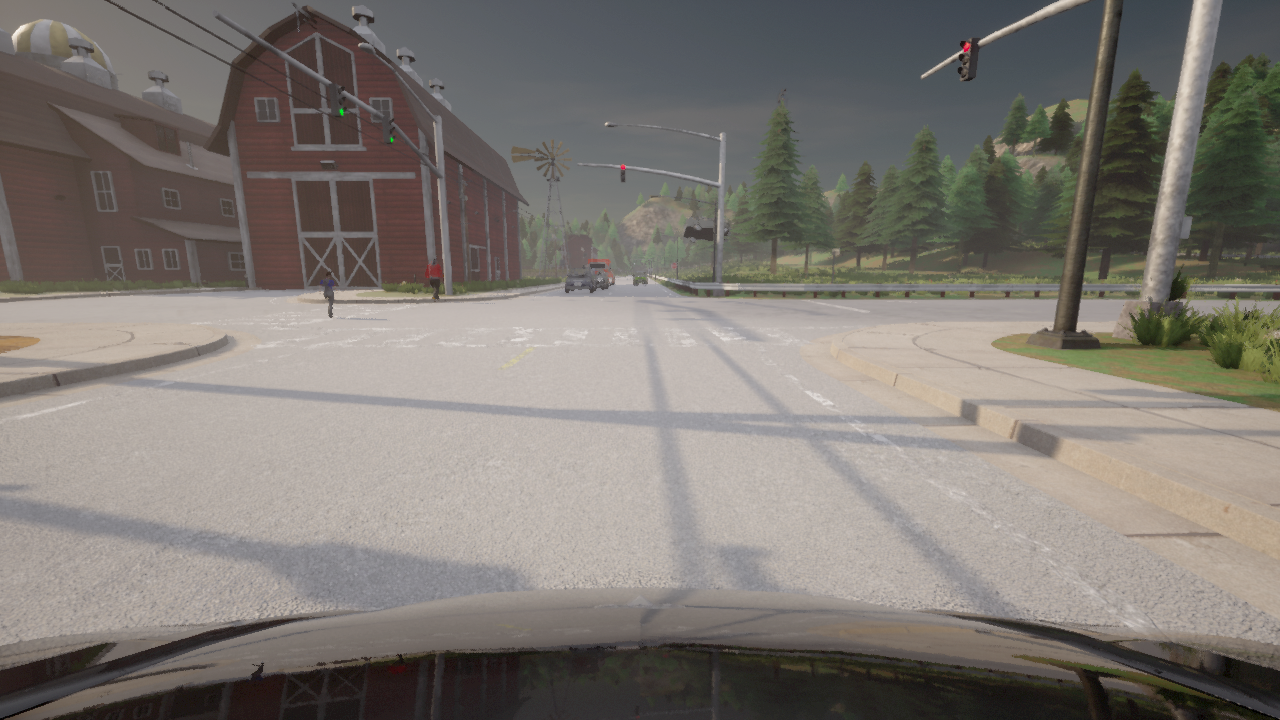cyclist: (0, 588, 1279, 719), (681, 215, 731, 244), (582, 258, 614, 286), (565, 267, 596, 293), (592, 269, 608, 290), (775, 88, 787, 106), (633, 271, 646, 284), (614, 274, 615, 284)
pedestrian: (319, 271, 339, 318), (424, 258, 443, 303)
